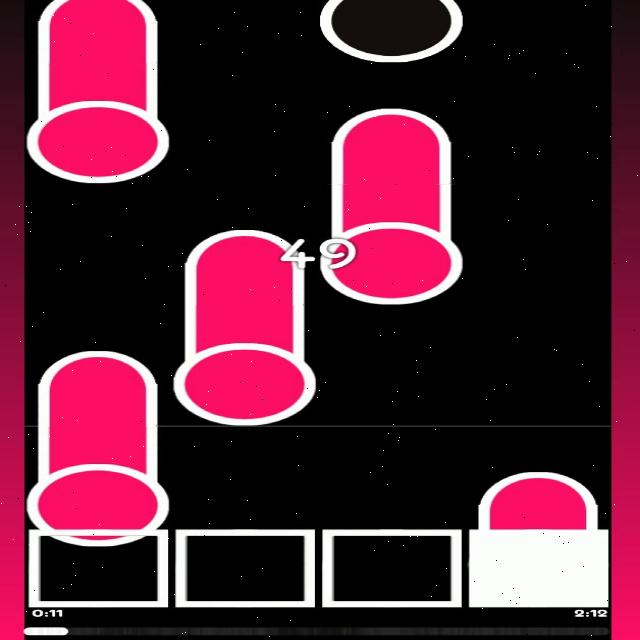end_hold: (181, 221, 303, 274), (326, 98, 454, 148), (33, 342, 161, 391), (476, 465, 602, 507), (36, 0, 160, 30)
note: (318, 0, 466, 64)
start_hold: (25, 73, 174, 184), (173, 326, 316, 427), (324, 205, 464, 305), (31, 445, 170, 545)
